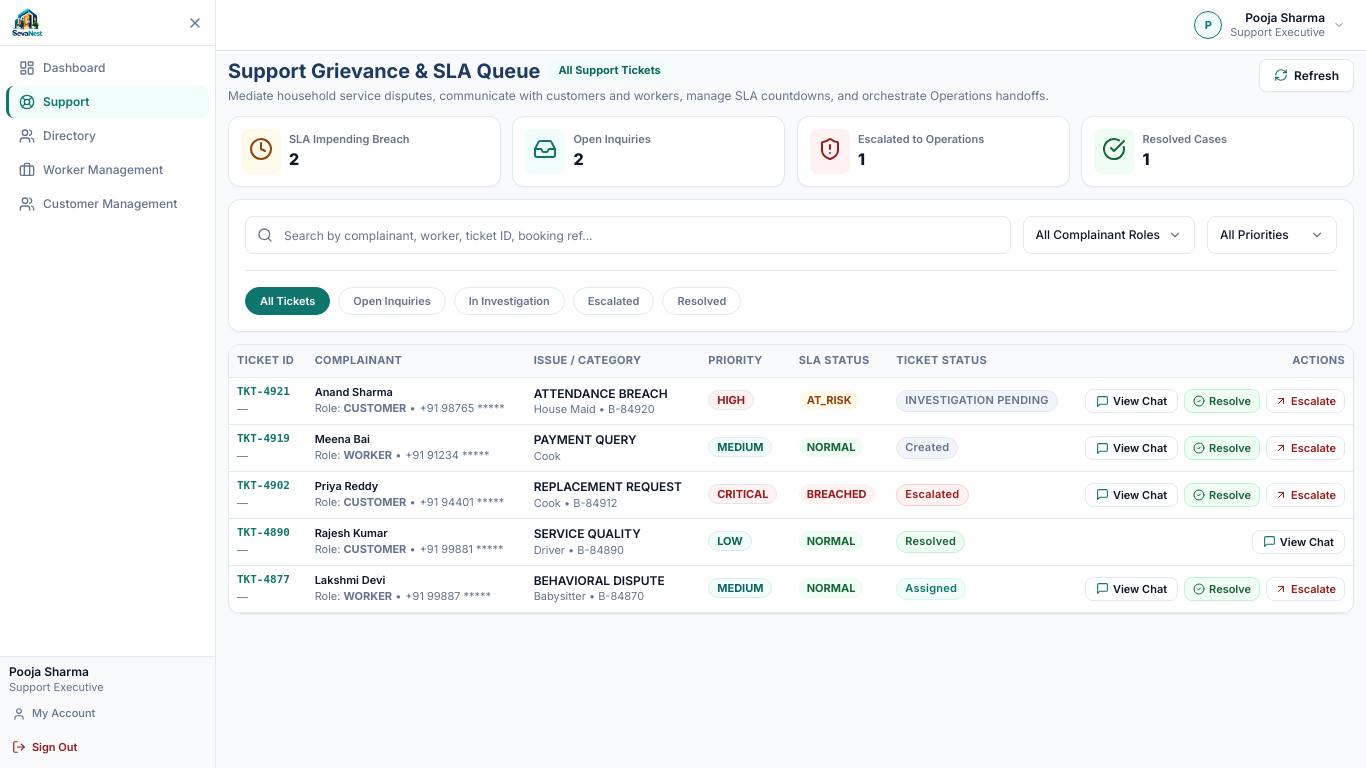
Test: Support Executive Master Role & Operational Workflows › 2. Support Tickets & Grievance Mediation › opens ticket chat workspace without individual claim requirement under collective model
The width and height of the screenshot is (1366, 768).
Expected: the heading "Support Grievance & SLA Queue" is shown, [228,59,540,84]
Note: Open detail modal for unassigned ticket
Click the 1st button "View Chat": x=1132, y=401 [1085,389,1178,413]
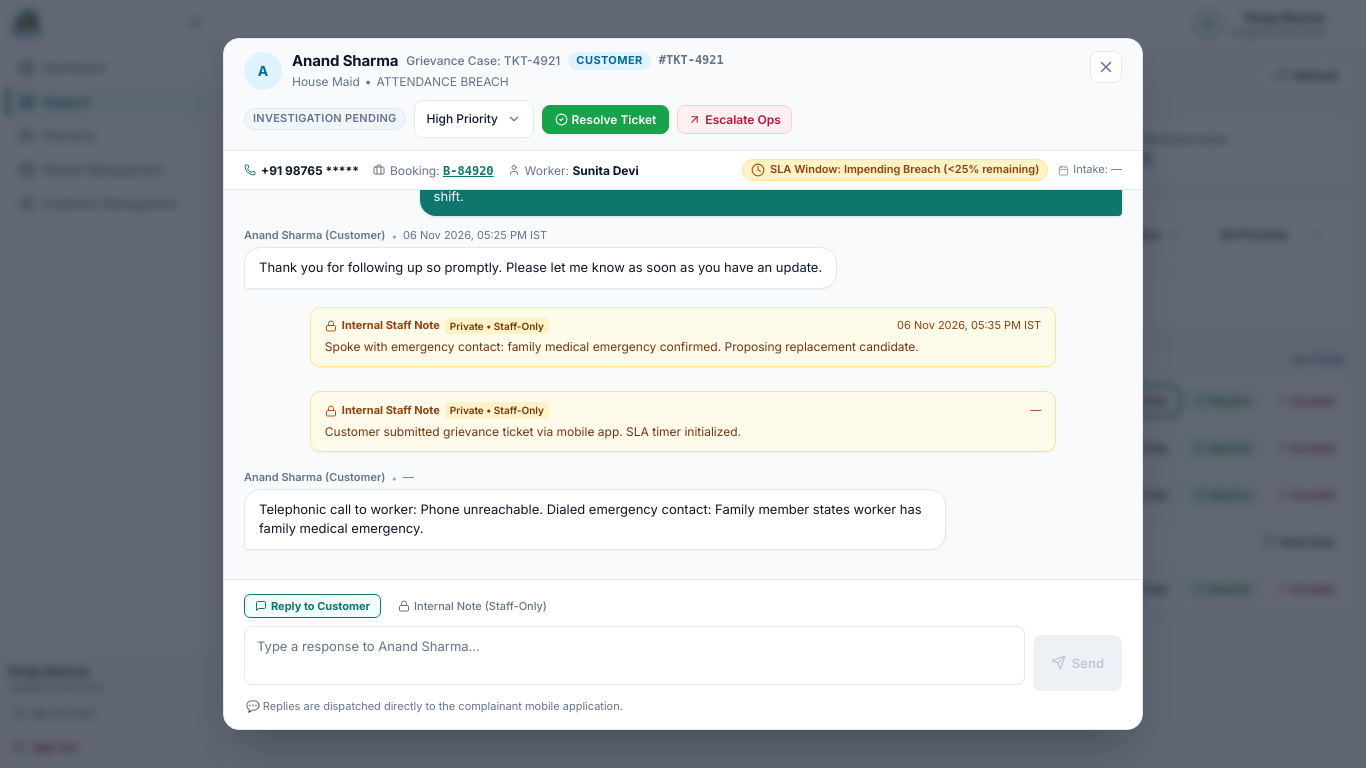
Result: the dialog is shown
